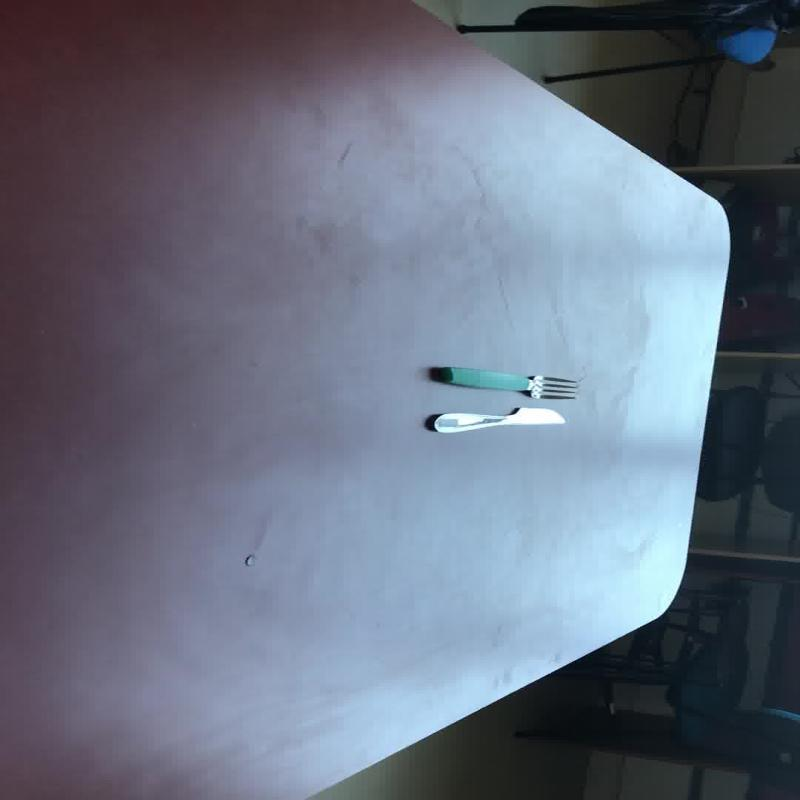fork: (427, 365, 577, 399), (424, 406, 564, 432)
knife: (428, 365, 578, 399), (424, 405, 564, 433)
